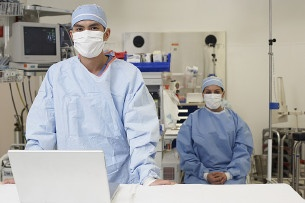Mask: (72, 21, 105, 54)
